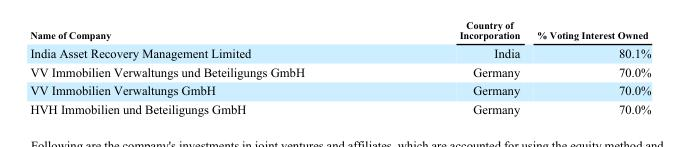table: (29, 29, 650, 116)
table column: (29, 29, 381, 116), (381, 29, 527, 116), (527, 29, 650, 116)
table column header: (29, 29, 650, 42)
table row: (29, 42, 650, 61), (29, 61, 650, 80), (29, 80, 650, 99), (29, 99, 650, 116), (29, 29, 650, 42)
